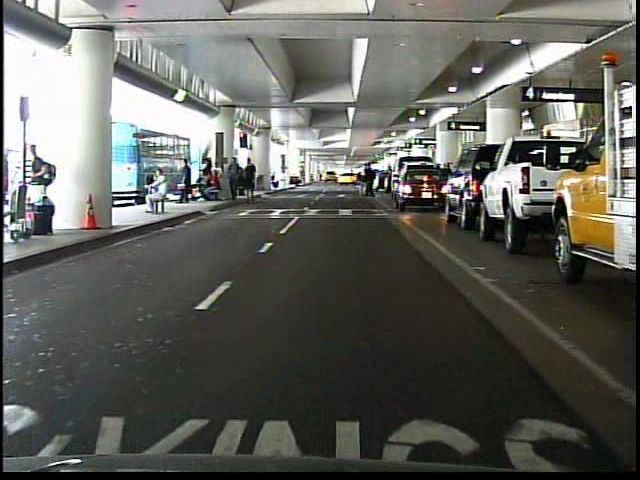person: (139, 167, 171, 217), (176, 156, 194, 207), (362, 159, 381, 203), (354, 160, 369, 197)
